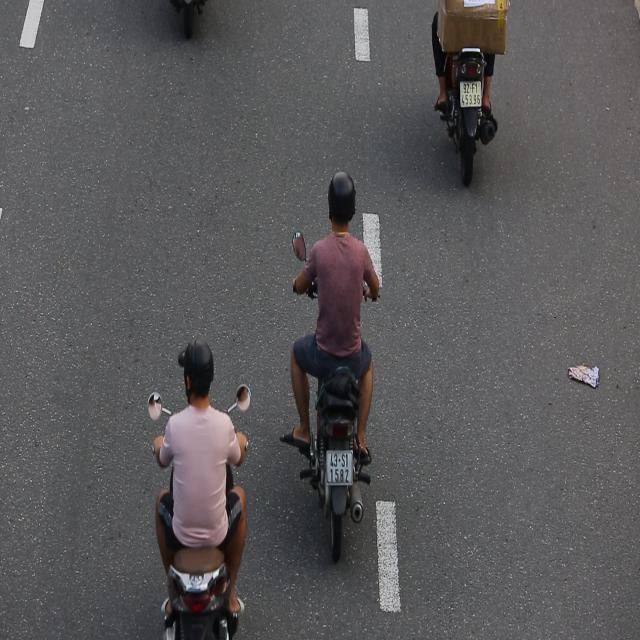motorbike: (281, 163, 384, 559)
